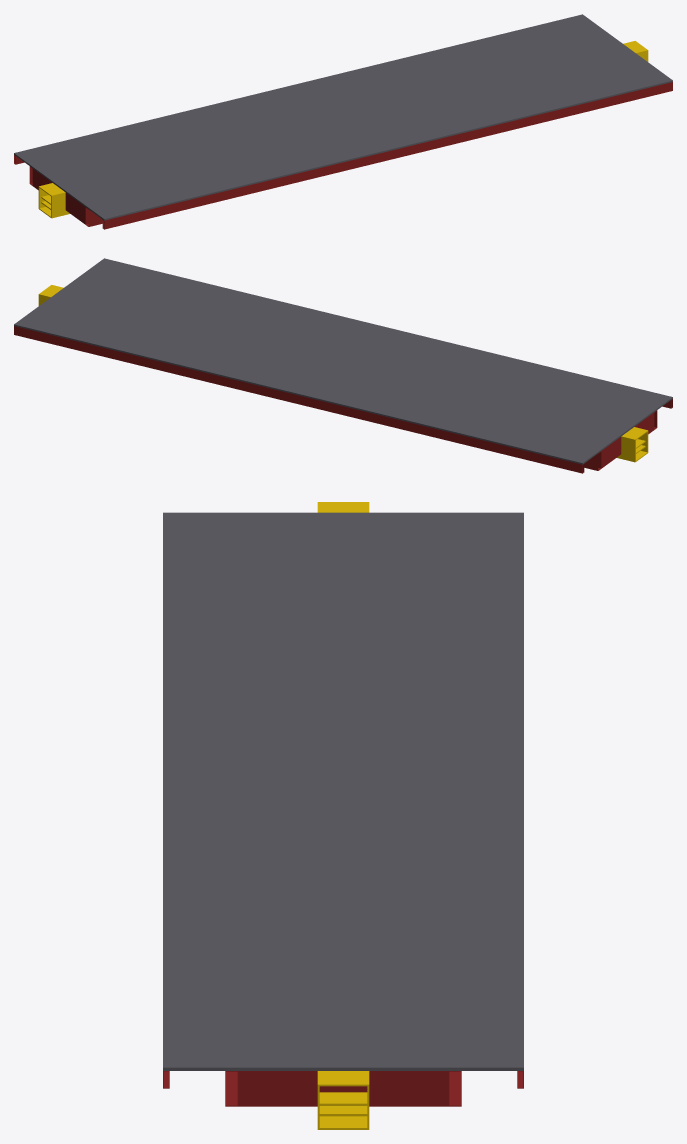
The model's file is PF-C310_coach_underframe.glb.
3 renders of one model, top to bottom at view 1: azimuth 30°, elevation 25°; view 2: azimuth 150°, elevation 25°; view 3: azimuth 270°, elevation 25°, orthographic. The views are drawn at different scales.
Visible parts, largest first — view 1: 034 floor 1 in composite panel, 027 side sill HSS6x2x3-16, 028 coach front drop drawbar box PL16, 002 end sill HSS12x4x1-4; view 2: 034 floor 1 in composite panel, 021 side sill HSS6x2x3-16, 028 coach front drop drawbar box PL16, 002 end sill HSS12x4x1-4; view 3: 034 floor 1 in composite panel, 003 end sill HSS12x4x1-4, 031 coach rear drop drawbar box PL16.
Part boxes in pixels (x1,y1,x2,y2): 034 floor 1 in composite panel: (14, 14, 672, 220); 027 side sill HSS6x2x3-16: (102, 82, 672, 229); 028 coach front drop drawbar box PL16: (38, 183, 69, 218); 002 end sill HSS12x4x1-4: (33, 169, 85, 224); 034 floor 1 in composite panel: (14, 258, 672, 464); 021 side sill HSS6x2x3-16: (14, 326, 584, 473); 028 coach front drop drawbar box PL16: (617, 427, 648, 462); 002 end sill HSS12x4x1-4: (601, 413, 653, 468); 034 floor 1 in composite panel: (163, 512, 523, 1070); 003 end sill HSS12x4x1-4: (238, 1071, 448, 1106); 031 coach rear drop drawbar box PL16: (317, 1071, 369, 1129).
Bounding box in the file's own units: 10660 × 413 × 2794.
